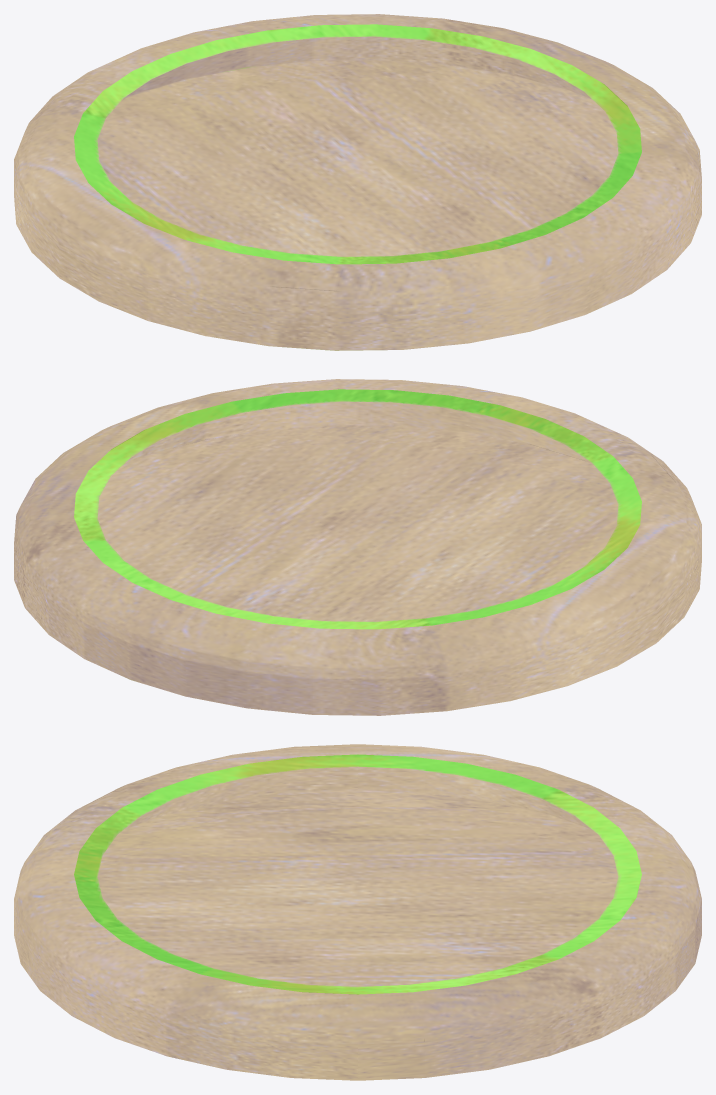
The model's file is Button_.fbx.
3 renders of one model, top to bottom at view 1: azimuth 30°, elevation 25°; view 2: azimuth 150°, elevation 25°; view 3: azimuth 270°, elevation 25°, orthographic.
Visible parts, largest first — view 1: Button; view 2: Button; view 3: Button.
Boxes of the visible parts, box(x1,y1,x2,y2) form: Button: box(14, 14, 701, 350); Button: box(14, 379, 701, 715); Button: box(14, 744, 701, 1080).
Bounding box in the file's own units: 0.4008 × 0.4008 × 0.0392.
